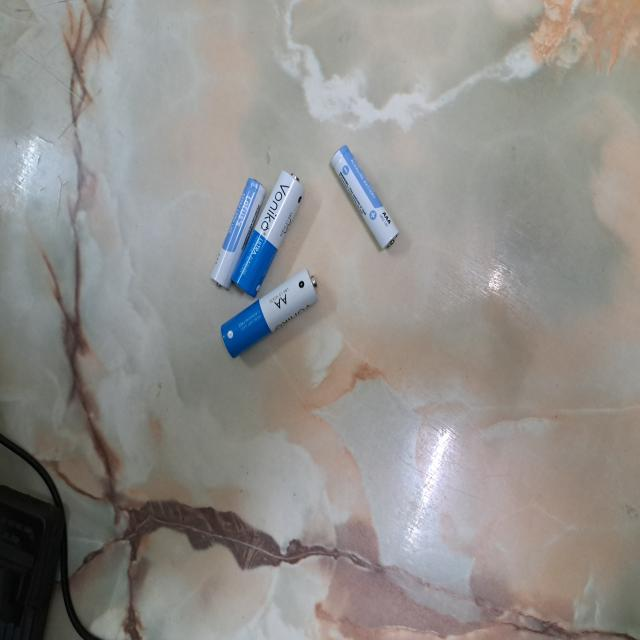battery: (230, 168, 304, 298), (220, 265, 320, 361), (332, 144, 399, 251), (208, 176, 267, 290)
